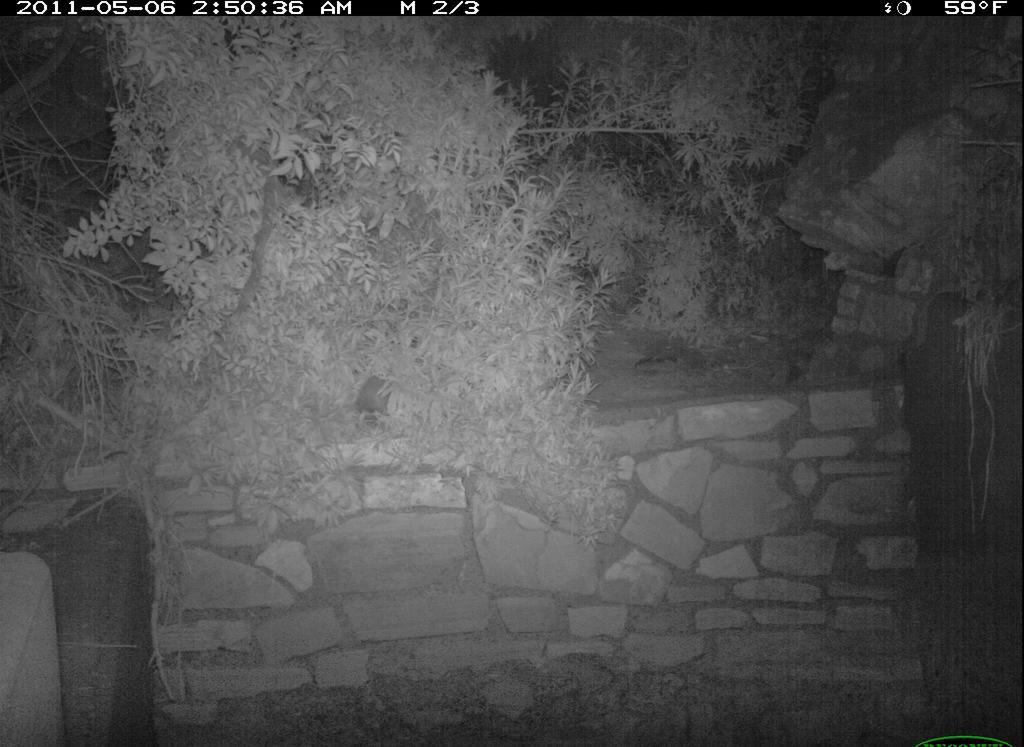opossum: (347, 366, 402, 426)
